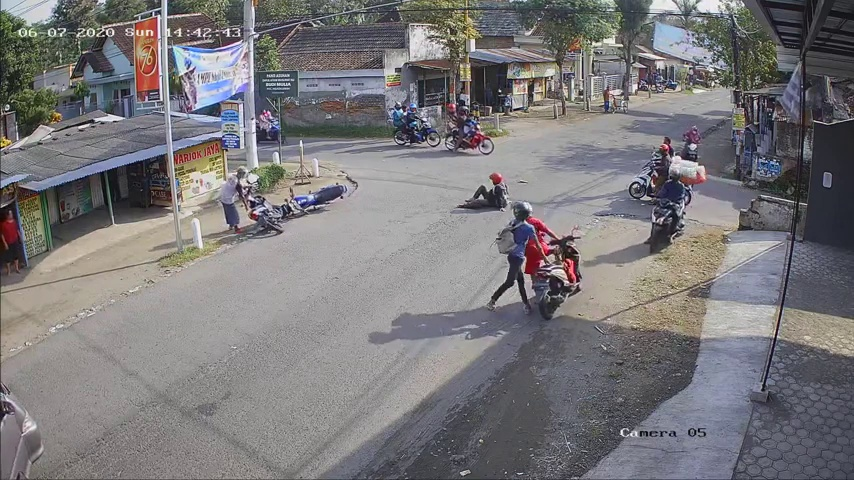motorbike: (493, 200, 584, 318), (647, 166, 692, 253), (634, 147, 695, 209), (443, 102, 497, 157), (391, 104, 441, 150), (251, 110, 286, 145), (681, 127, 703, 166)
